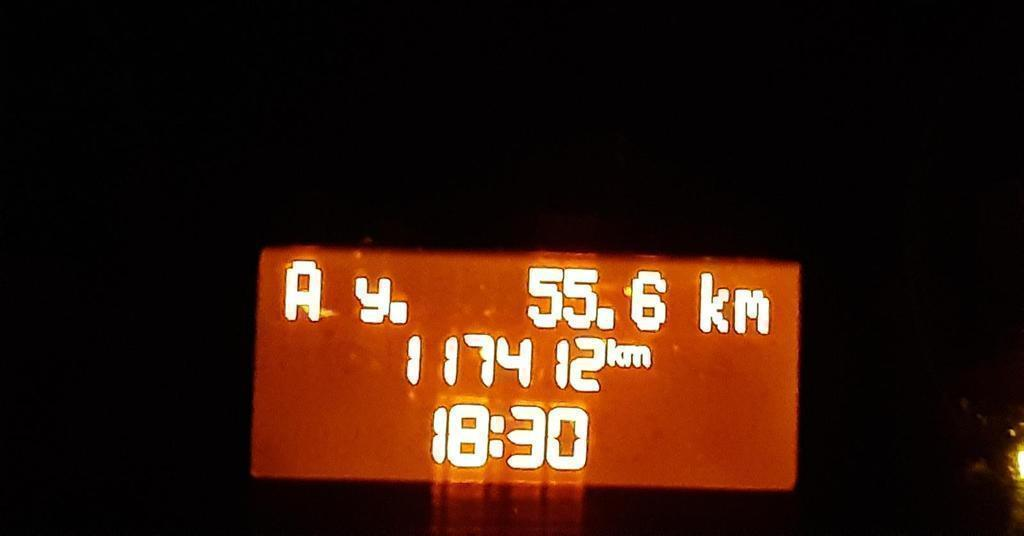,: (390, 297, 411, 327), (597, 305, 617, 332)
0: (547, 405, 590, 474)
1: (400, 331, 427, 389), (436, 332, 460, 388), (426, 402, 447, 466), (552, 337, 569, 391)
2: (570, 335, 605, 393)
3: (506, 401, 545, 474)
4: (495, 334, 534, 389)
5: (522, 264, 563, 330), (564, 263, 597, 332)
6: (628, 267, 670, 333)
7: (462, 329, 495, 390)
8: (448, 400, 487, 470)
X: (282, 256, 325, 325), (694, 268, 731, 336), (352, 273, 390, 327), (733, 285, 772, 336), (625, 342, 654, 369), (489, 414, 505, 460), (606, 332, 625, 370)
odometer: (243, 240, 806, 496)
